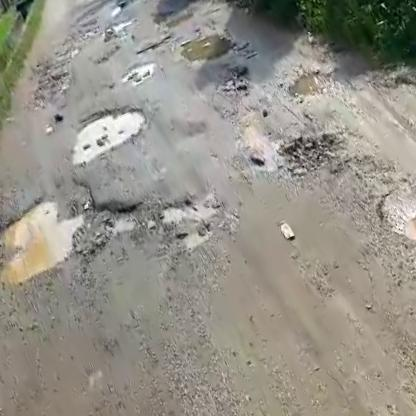pothole: (0, 159, 149, 297), (58, 92, 158, 170), (157, 182, 241, 259), (271, 117, 351, 186), (370, 165, 416, 268), (282, 59, 342, 109), (177, 24, 237, 71), (131, 29, 175, 58), (120, 56, 161, 87)
